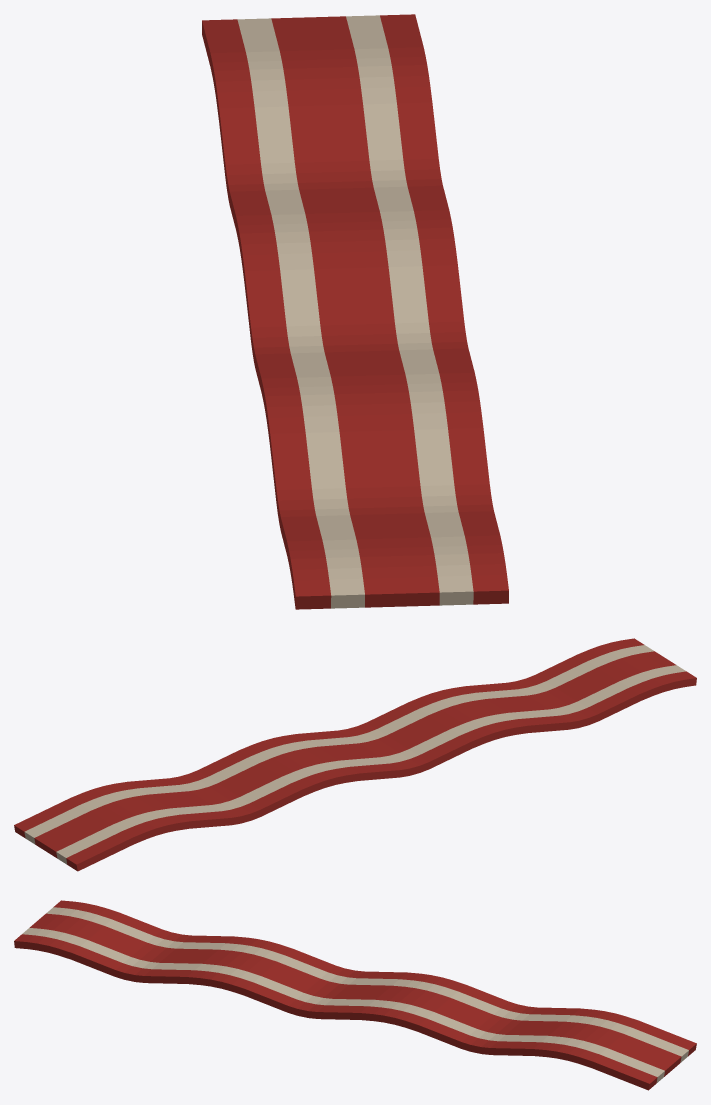
The model's file is Bacon.fbx.
The picture shows the model from 3 angles, top to bottom: view 1: azimuth 30°, elevation 25°; view 2: azimuth 150°, elevation 25°; view 3: azimuth 270°, elevation 25°; orthographic projection. The views are drawn at different scales.
Parts seen in each view (by area): view 1: Bacon; view 2: Bacon; view 3: Bacon.
Boxes of the visible parts, x1,y1,x2,y2 form: Bacon: (202, 14, 508, 609); Bacon: (14, 638, 696, 871); Bacon: (14, 900, 696, 1090).
Bounding box in the file's own units: 496 × 26.63 × 829.
